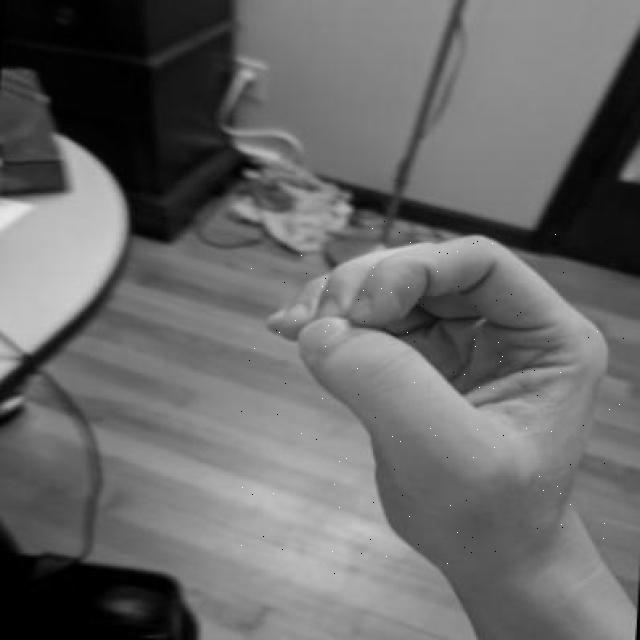O: (241, 213, 627, 581)
